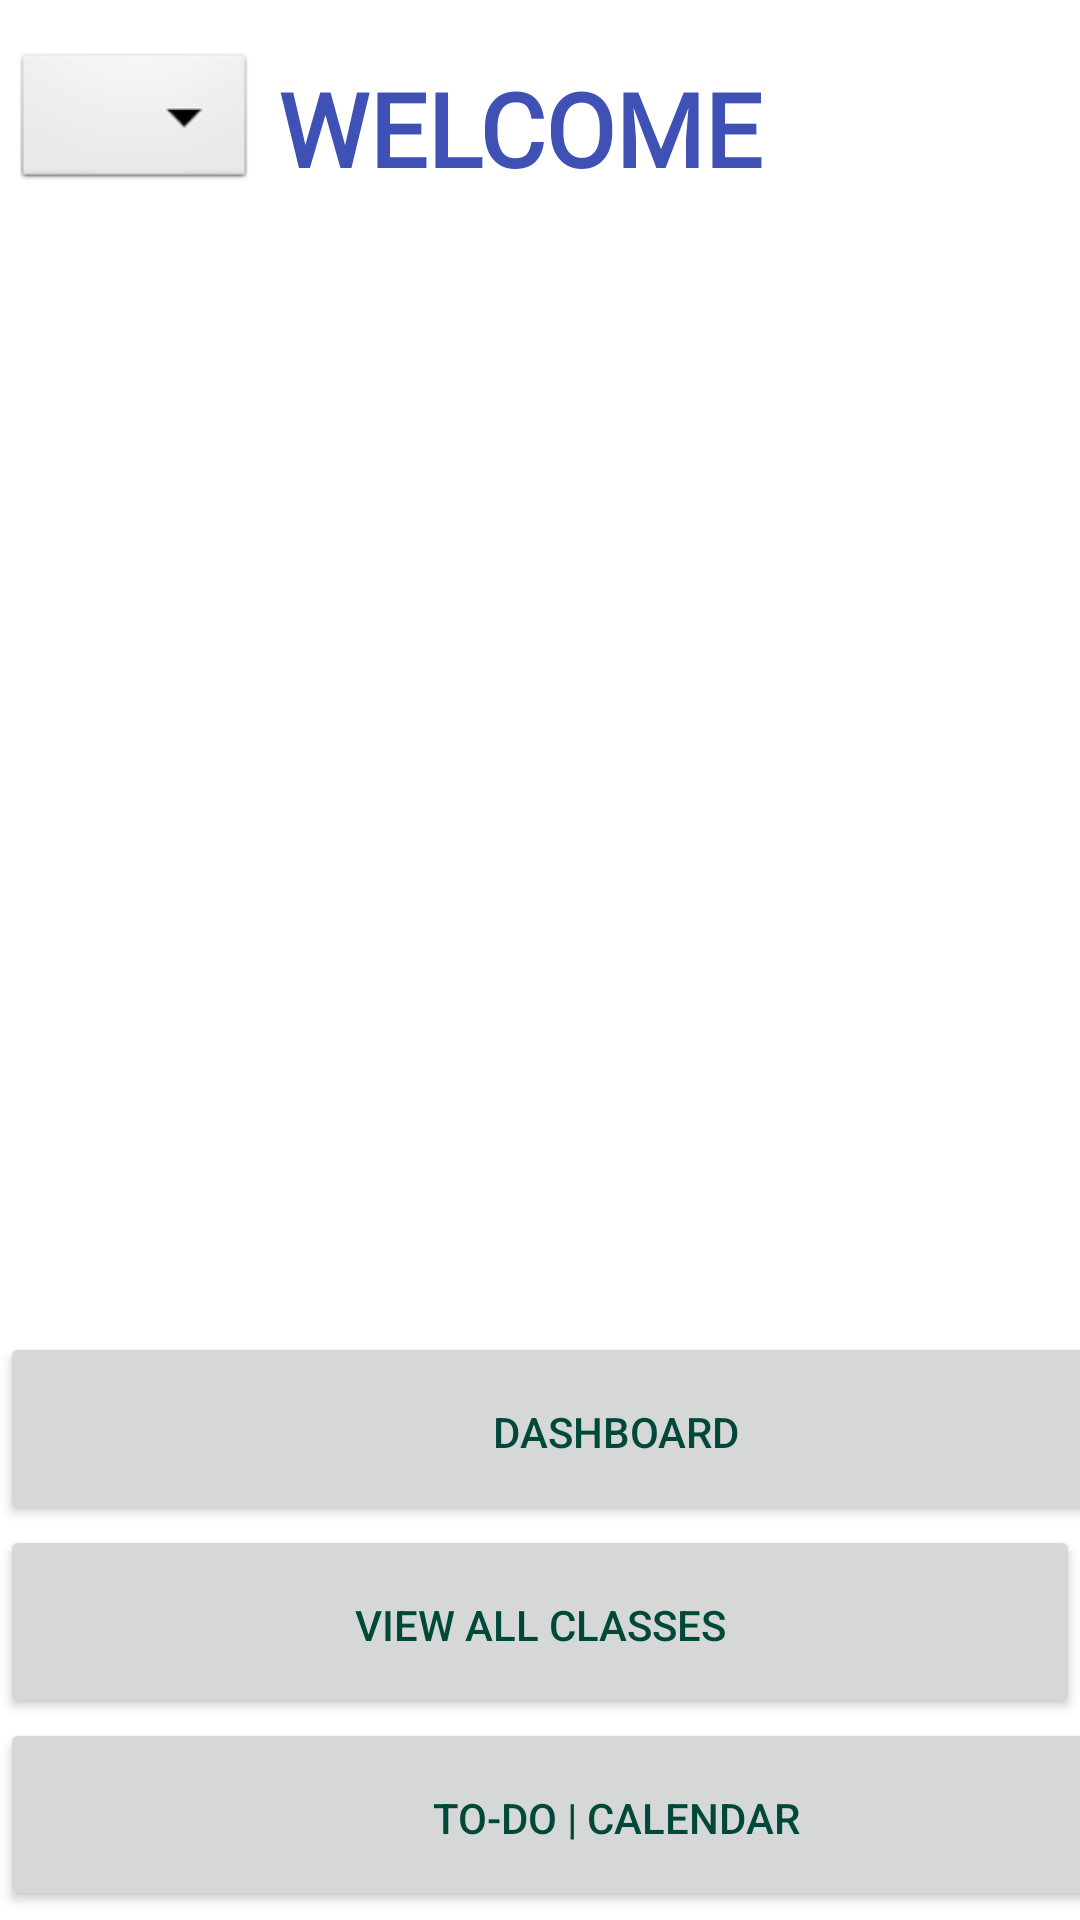

Icon click points for this 1080px x 1920px phone screenshot, format point (x, y):
dropdown: point (134, 117)
